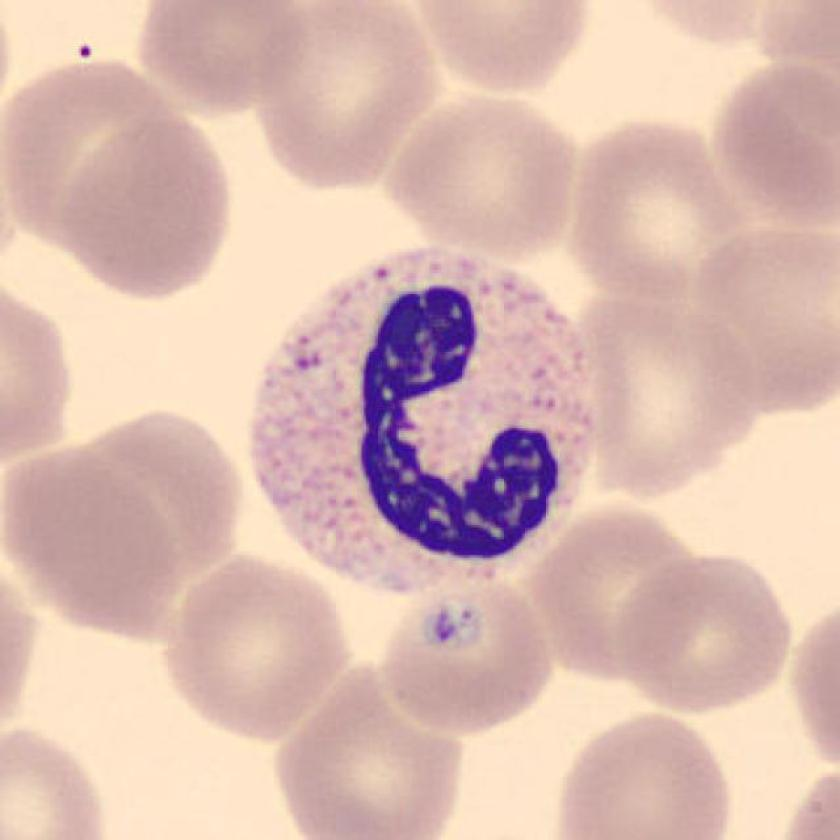neutrophil: (254, 249, 598, 594)
